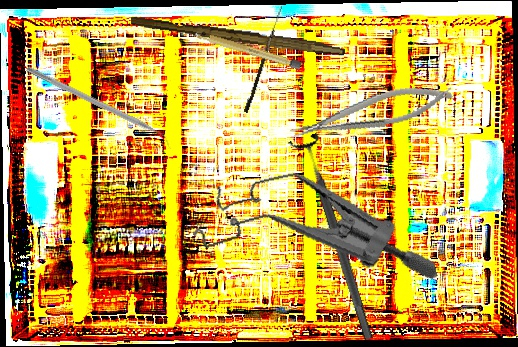Chopper: (21, 65, 177, 152)
Fixation Ring: (287, 131, 385, 345)
Hook Surgical: (243, 4, 283, 114)
Needle Holder: (286, 78, 456, 146)
Scalpel Handle: (129, 14, 347, 57), (194, 29, 302, 70)
Speculum: (183, 141, 439, 329)
